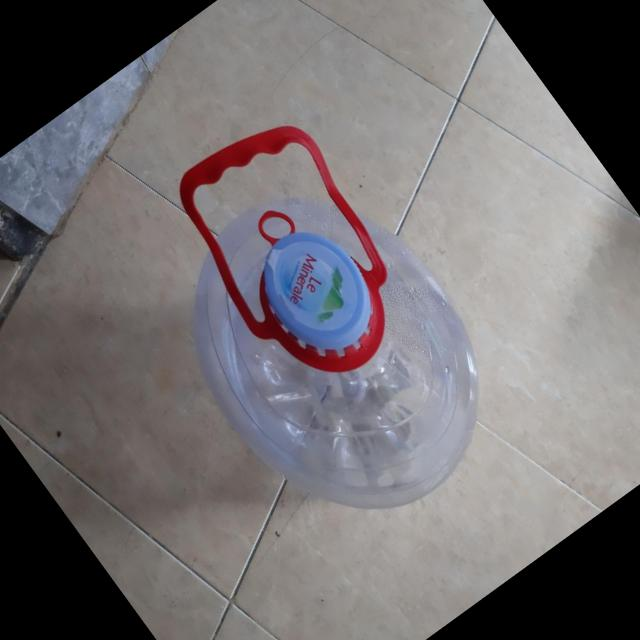Galon: (94, 87, 536, 563)
